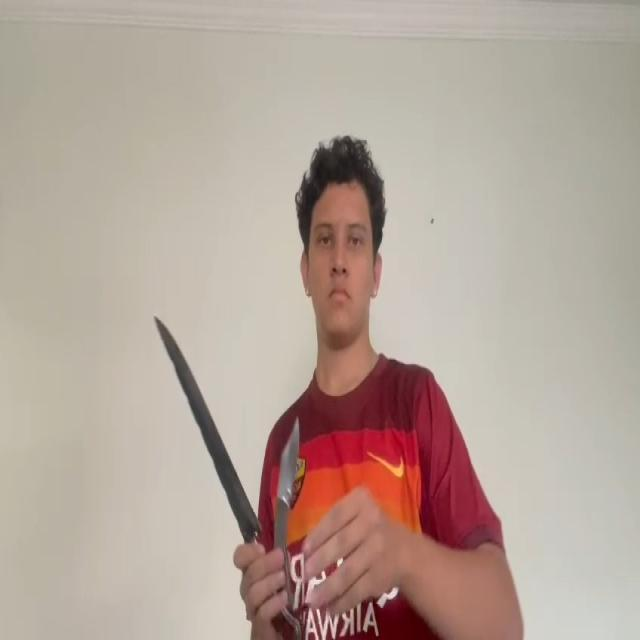knife: (157, 317, 260, 534), (278, 418, 299, 499)
